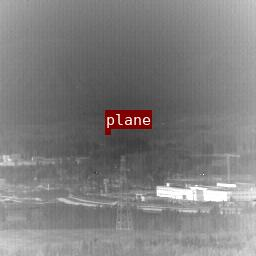plane: (105, 129, 110, 133)
